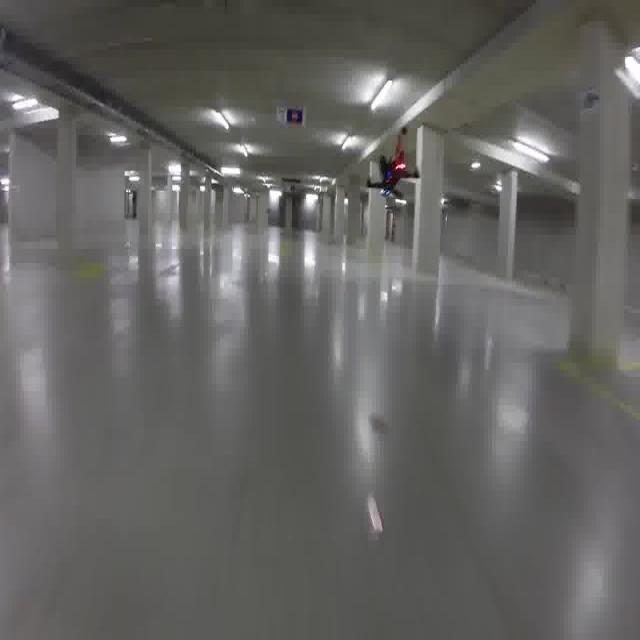drone: (367, 150, 420, 212)
